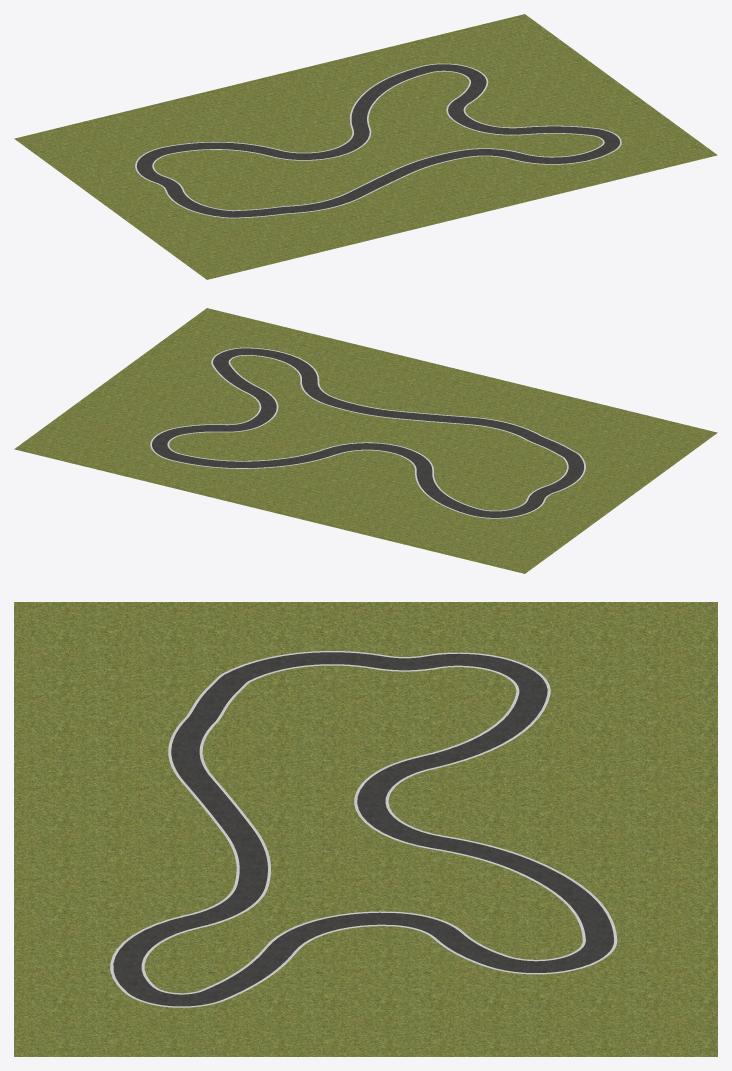
Rendered from track1.dae.
The picture shows the model from 3 angles, top to bottom: view 1: azimuth 30°, elevation 25°; view 2: azimuth 150°, elevation 25°; view 3: azimuth 270°, elevation 25°; orthographic projection. The views are drawn at different scales.
Parts seen in each view (by area): view 1: field, road, outerroad, innerroad; view 2: field, road, outerroad, innerroad; view 3: field, road, outerroad, innerroad.
Boxes of the visible parts, x1,y1,x2,y2 form: field: (14, 14, 717, 279); road: (136, 64, 619, 217); outerroad: (135, 63, 621, 218); innerroad: (152, 70, 604, 211); field: (14, 308, 717, 573); road: (152, 348, 583, 517); outerroad: (150, 347, 585, 518); innerroad: (167, 355, 568, 511); field: (14, 602, 717, 1056); road: (113, 652, 613, 1006); outerroad: (110, 651, 617, 1007); innerroad: (141, 664, 585, 994).
Bounding box in the file's own units: 62.36 × 40.8 × 0.01.
Materials: 3 (3 with a texture image).
